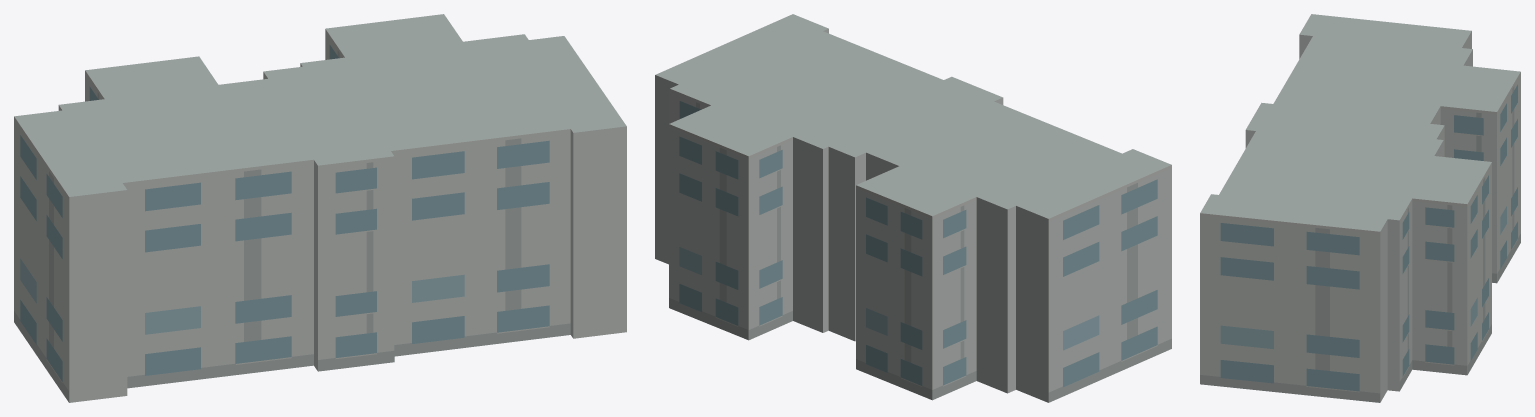
Rendered from residential-bae7d848-1482-48f1-8fa3-a7af99f08277.glb.
3 views of the same model, side by side, from view 1: azimuth 30°, elevation 25°; view 2: azimuth 150°, elevation 25°; view 3: azimuth 270°, elevation 25° (orthographic). The views are drawn at different scales.
Parts seen in each view (by area): view 1: residential-bae7d848-1482-48f1-8fa3-a7af99f08277.tmp; view 2: residential-bae7d848-1482-48f1-8fa3-a7af99f08277.tmp; view 3: residential-bae7d848-1482-48f1-8fa3-a7af99f08277.tmp.
Boxes of the visible parts, <box> form: residential-bae7d848-1482-48f1-8fa3-a7af99f08277.tmp: <box>14,14,626,402</box>; residential-bae7d848-1482-48f1-8fa3-a7af99f08277.tmp: <box>655,14,1171,402</box>; residential-bae7d848-1482-48f1-8fa3-a7af99f08277.tmp: <box>1200,14,1520,402</box>.
Size of the model in its own units: 41.6 by 15.25 by 25.9.
